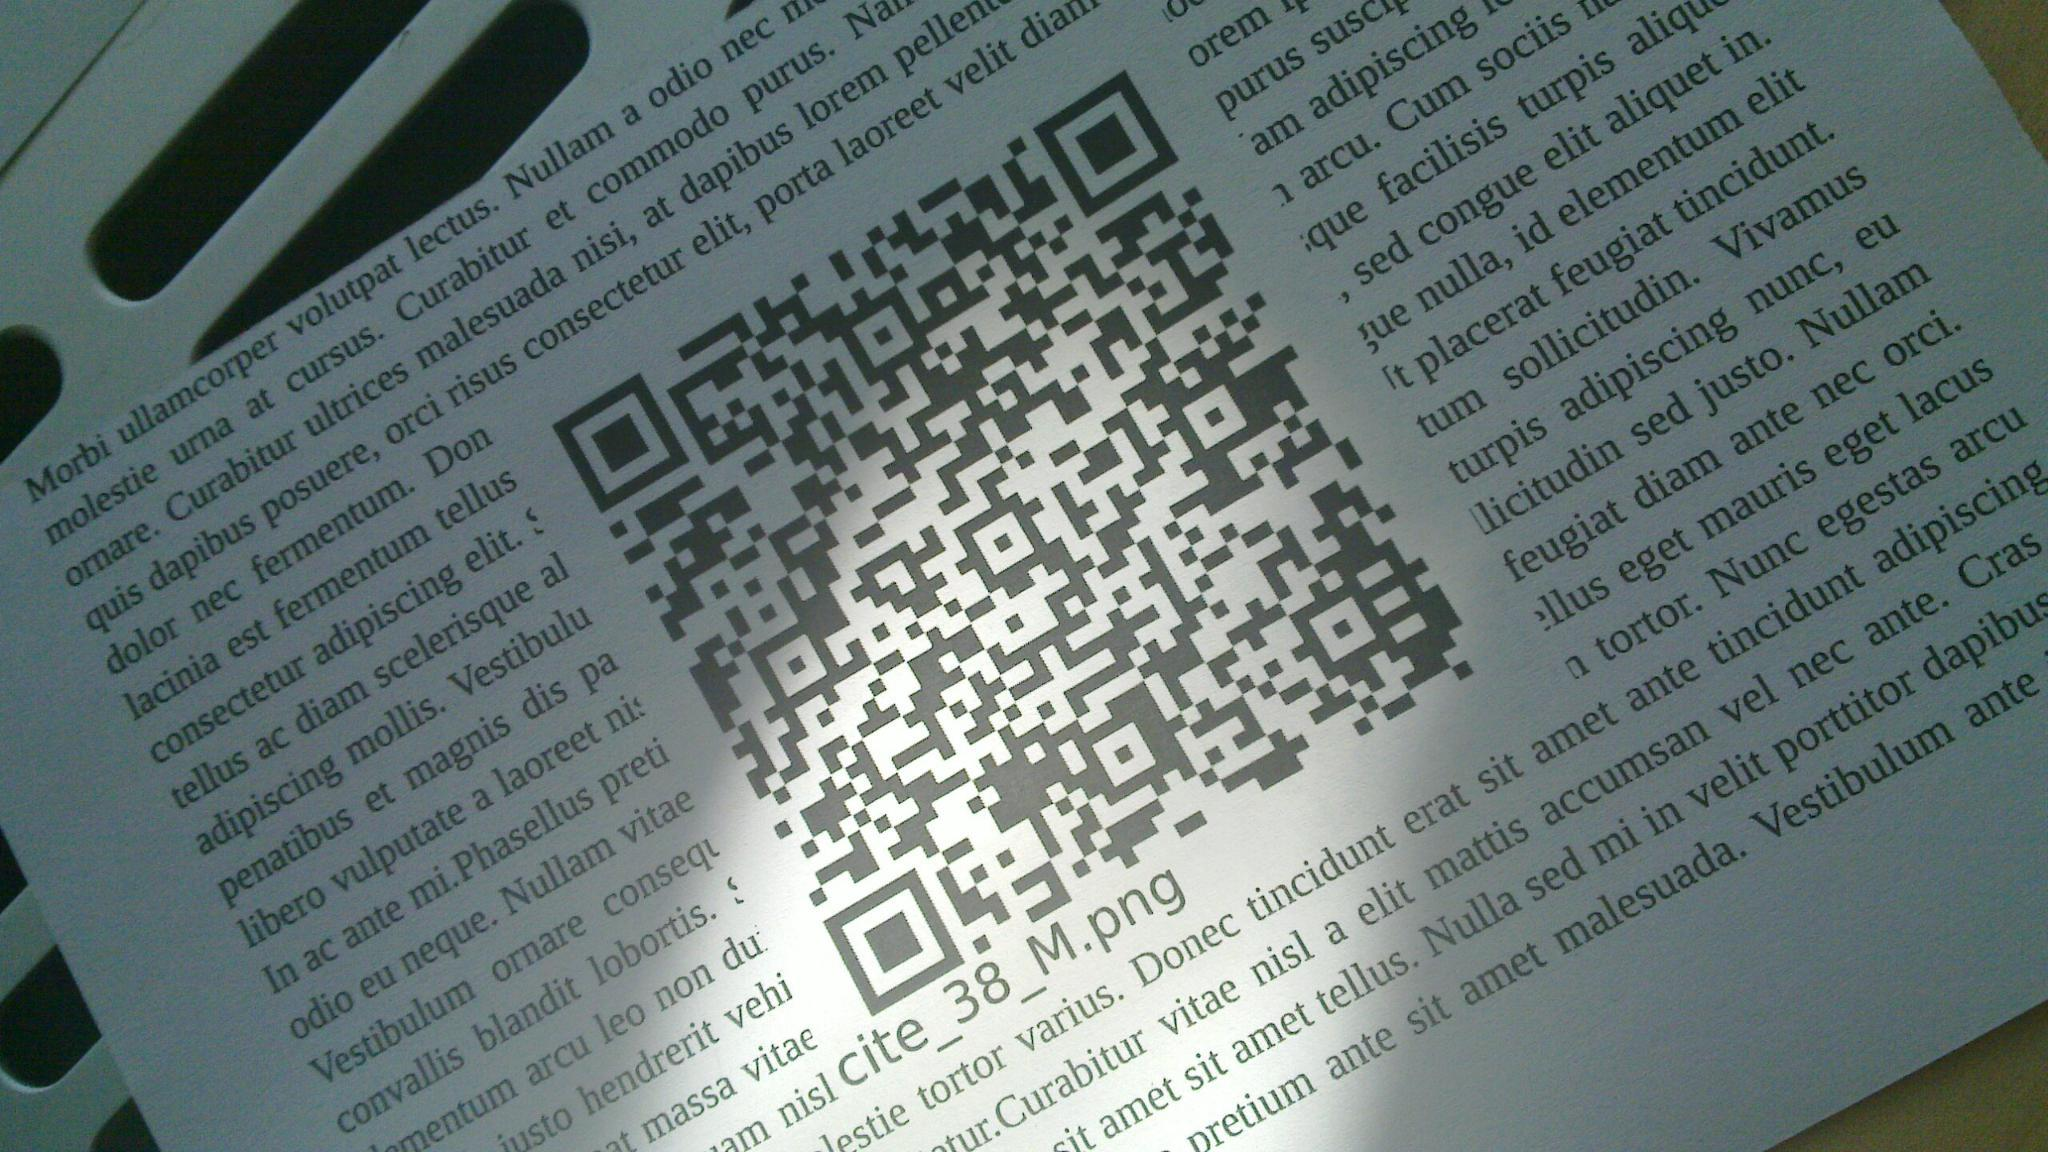Finder pattern: (532, 371, 698, 520), (817, 857, 966, 1020), (1027, 68, 1182, 217)
